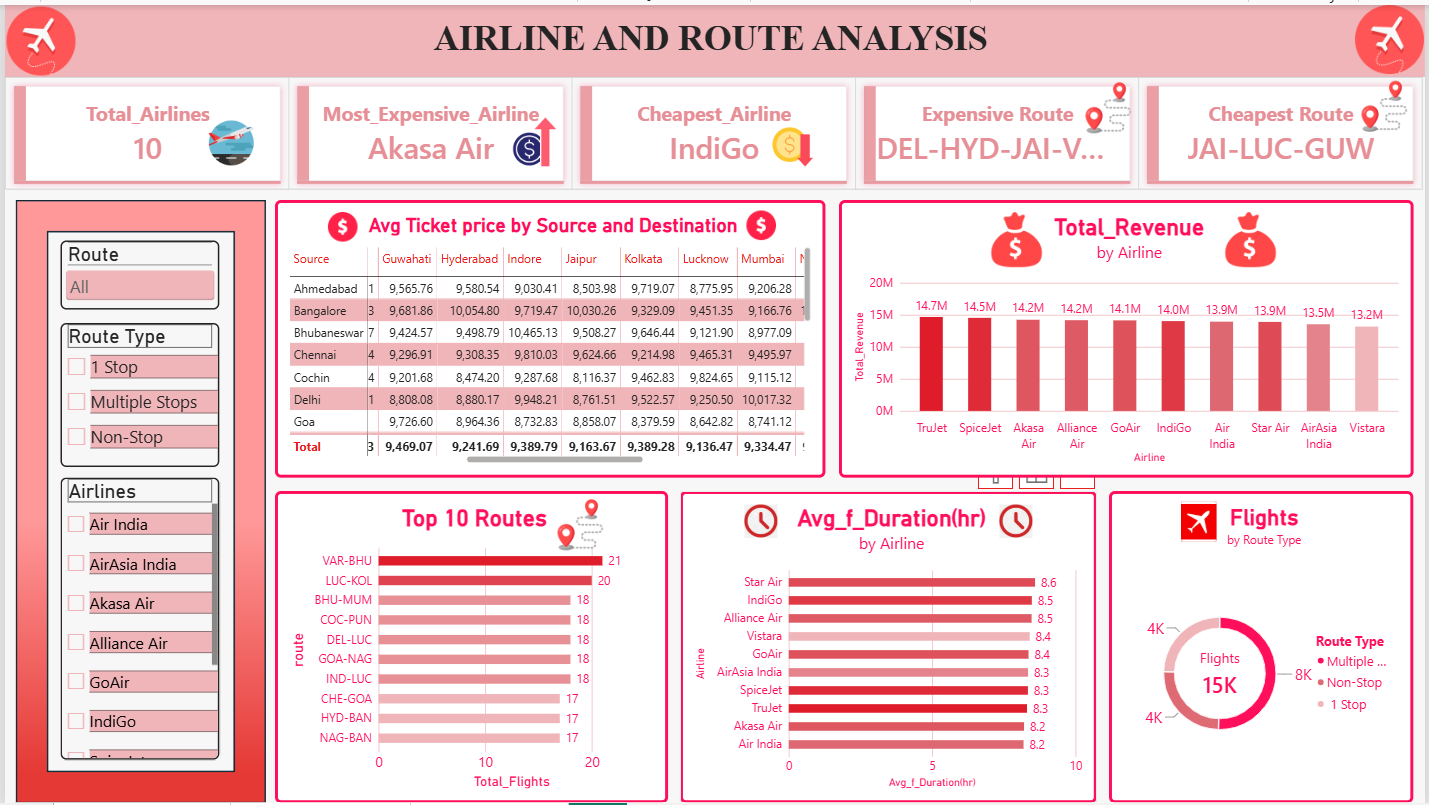

What the dashboard file says about the page in this screenshot:
{"tool":"powerbi","page":{"name":"airline analysis","canvas":[1920,1080],"ordinal":1},"visuals":[{"type":"textbox","box":[0,0,1919.3,97.7],"z":0},{"type":"image","box":[0,2,97.7,93.1],"z":1000},{"type":"image","box":[1822.8,0,97.7,93.1],"z":2000},{"type":"cardVisual","fields":{"Data":["flights.Total_Airlines","flights.Most_Expensive_Airline","flights.Cheapest_Airline","flights.Expensive Route","flights.Cheapest Route"]},"box":[0,97.3,1920.1,152.1],"z":3000},{"type":"barChart","title":"Top 10 Routes","fields":{"Category":["flights.route"],"Y":["flights.Total_Flights"]},"box":[365,656.9,531.2,421.7],"z":4000},{"type":"barChart","fields":{"Category":["flights.Airline"],"Y":["flights.Avg_f_Duration(hr)"]},"box":[912.4,656.9,563.7,421.7],"z":5000},{"type":"donutChart","title":"Flights","fields":{"Y":["flights.Total_Flights"],"Category":["flights.Route Type"]},"box":[1492.3,656.9,411.6,421.7],"z":6000},{"type":"columnChart","fields":{"Category":["flights.Airline"],"Y":["flights.Total_Revenue"]},"box":[1127.3,263.6,776.6,375.1],"z":7000},{"type":"pivotTable","title":"Avg Ticket price by Source and Destination","fields":{"Rows":["flights.Source"],"Values":["flights.Avg_Ticket_price"],"Columns":["flights.destination"]},"box":[365,263.6,744.1,375.1],"z":8000},{"type":"image","box":[263.6,156.1,85.2,60.8],"z":9000},{"type":"image","box":[677.2,152.1,77.2,65.9],"z":10000},{"type":"image","box":[1015.8,162.2,97.7,59.1],"z":11000},{"type":"image","box":[1451.4,93.1,79.5,90.9],"z":12000},{"type":"image","box":[1823.9,90.9,79.5,90.9],"z":13000},{"type":"image","box":[0,263.5,368,815.4],"z":14000},{"type":"slicer","title":"Airlines","fields":{"Values":["flights.Airline"]},"box":[75,638.7,214.9,381.2],"z":15000},{"type":"slicer","fields":{"Values":["flights.Route Type"]},"box":[75,429.8,214.9,194.6],"z":16000},{"type":"slicer","fields":{"Values":["flights.route"]},"box":[75,318.3,214.9,93.3],"z":17000},{"type":"image","box":[738,656.9,79.5,90.9],"z":18000},{"type":"image","box":[987.4,675.2,68.1,45.4],"z":19000},{"type":"actionButton","box":[1589.6,671.1,47.7,54.5],"z":20000},{"type":"image","box":[1321.9,279.4,90.9,75],"z":21000},{"type":"image","box":[1637.6,279.4,90.9,75],"z":22000},{"type":"image","box":[1332.1,675.2,68.1,45.4],"z":23000},{"type":"image","box":[429.3,279.4,52.9,40],"z":24000},{"type":"image","box":[994.8,277.1,52.9,40],"z":25000}]}

Visuals, with their boxes in screenshot pixels (x1, y1, x2, y2), scaled from the page's 1920x1080 canvas onto the 1429x805 screenshot:
textbox: 0/0/1428/73
image: 0/1/73/71
image: 1357/0/1428/69
cardVisual - flights.Total_Airlines x flights.Most_Expensive_Airline: 0/73/1428/186
"Top 10 Routes" barChart: 272/490/667/804
barChart - flights.Airline x flights.Avg_f_Duration(hr): 679/490/1099/804
"Flights" donutChart: 1111/490/1417/804
columnChart - flights.Airline x flights.Total_Revenue: 839/196/1417/476
"Avg Ticket price by Source and Destination" pivotTable: 272/196/825/476
image: 196/116/260/162
image: 504/113/561/162
image: 756/121/829/165
image: 1080/69/1139/137
image: 1357/68/1417/136
image: 0/196/274/804
"Airlines" slicer: 56/476/216/760
slicer - flights.Route Type: 56/320/216/465
slicer - flights.route: 56/237/216/307
image: 549/490/608/557
image: 735/503/786/537
actionButton: 1183/500/1219/541
image: 984/208/1052/264
image: 1219/208/1286/264
image: 991/503/1042/537
image: 320/208/359/238
image: 740/207/780/236
